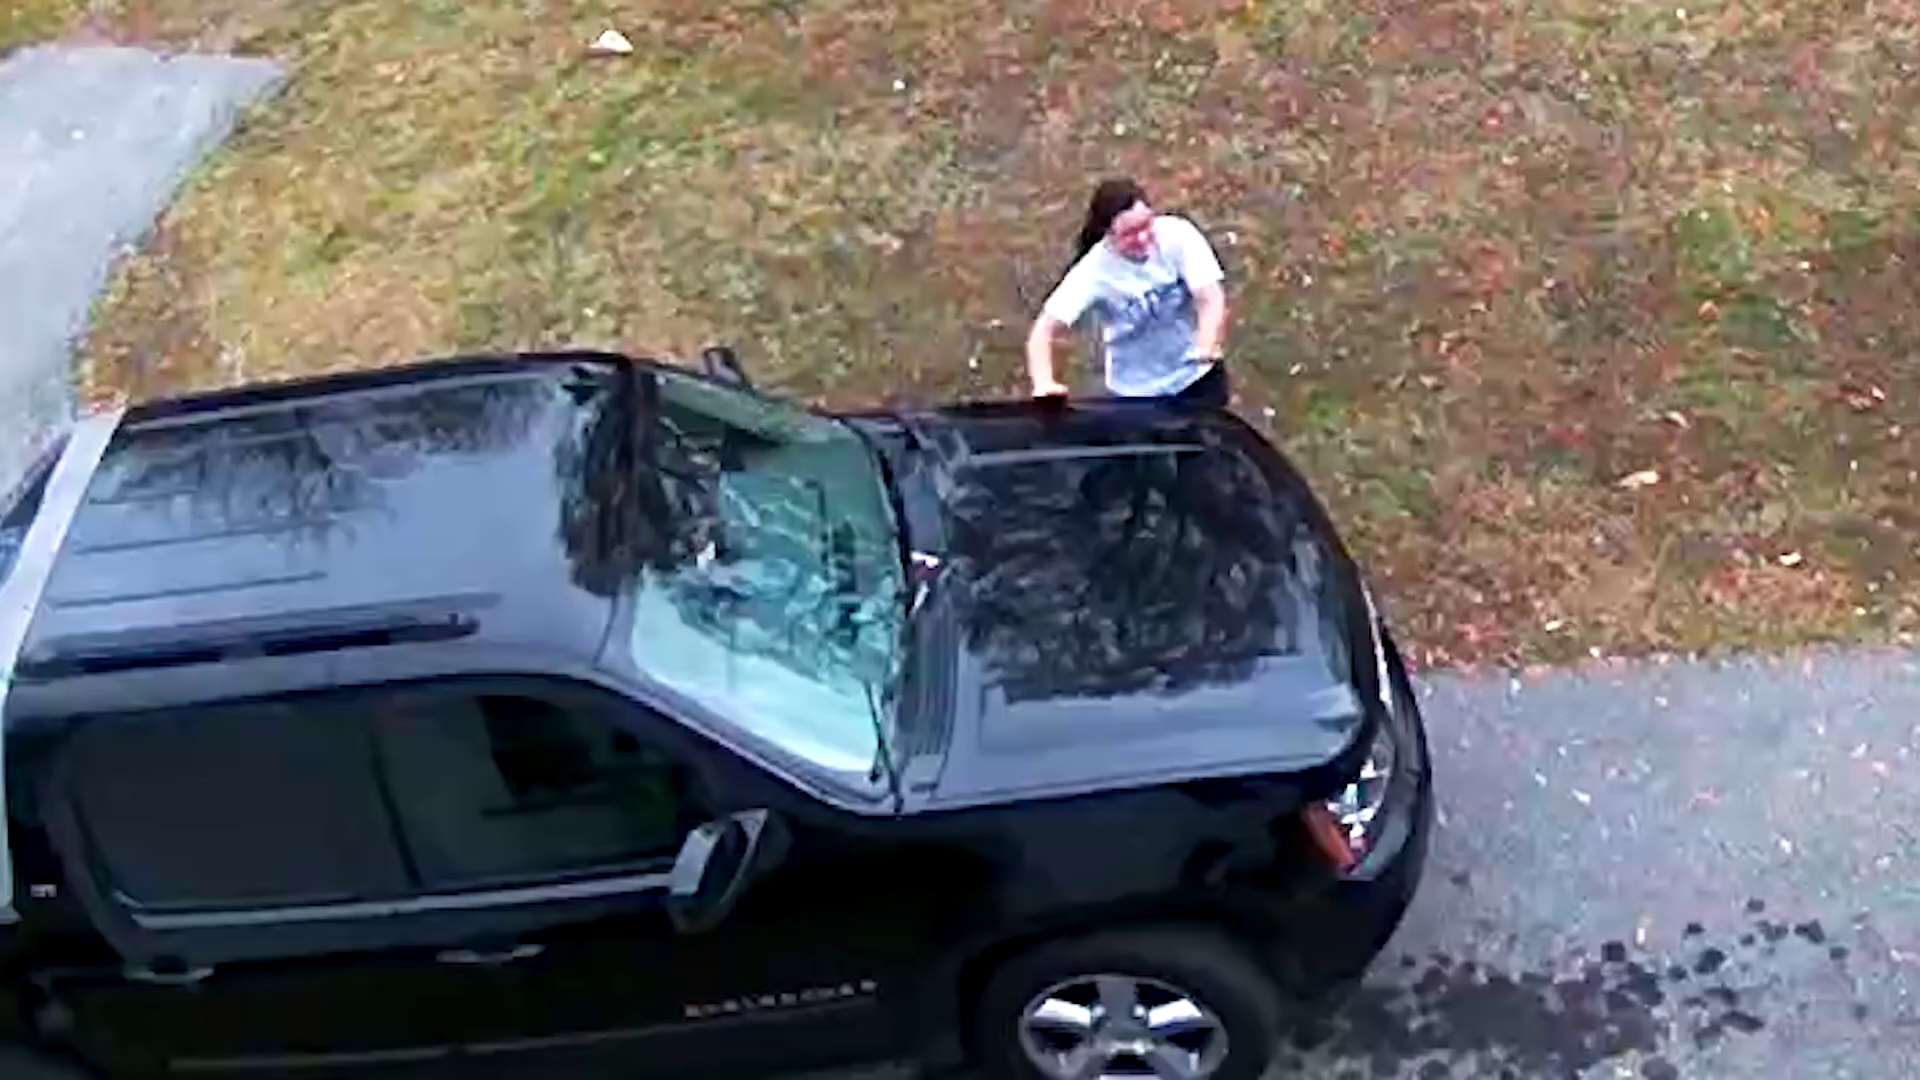face: (1109, 214, 1154, 258)
